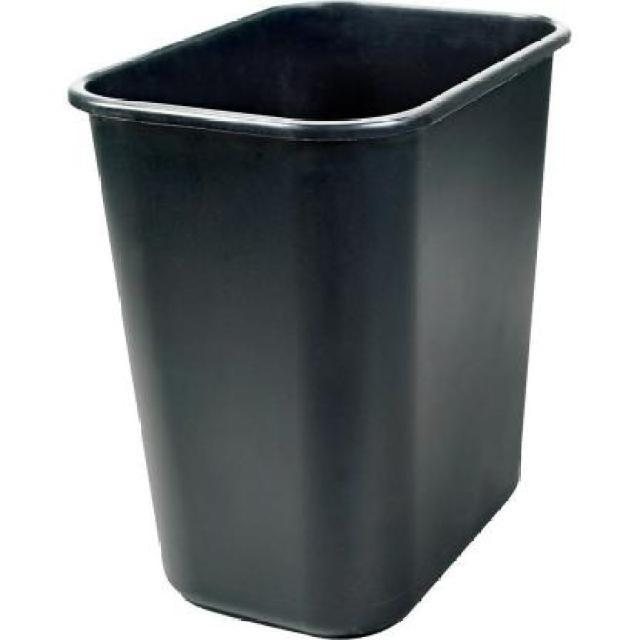garbage container: (68, 4, 597, 640)
